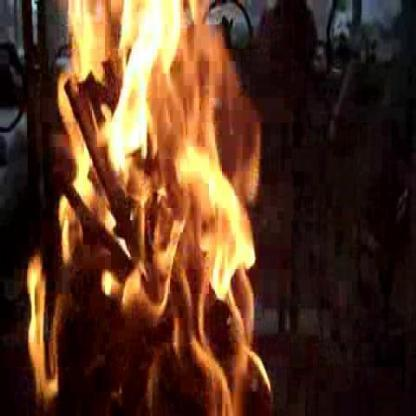Fire: (22, 0, 273, 415)
